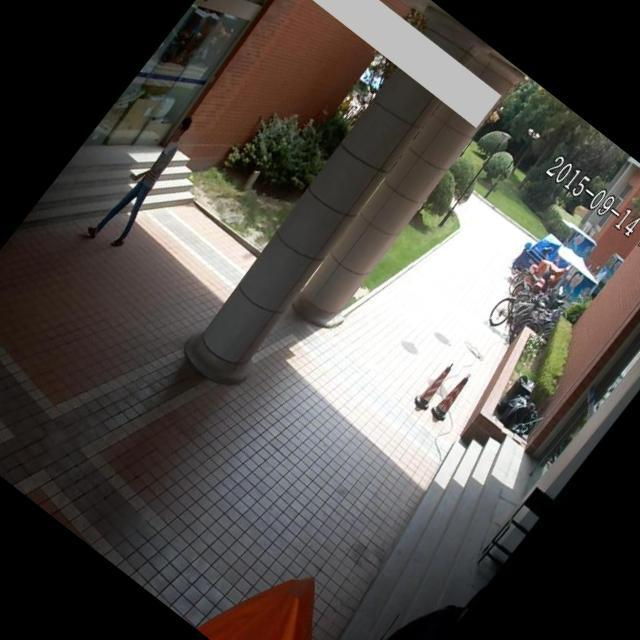person: (74, 102, 214, 263)
